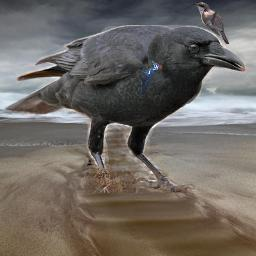Crow: (4, 25, 246, 193)
Cuckoo: (192, 1, 229, 45)
Woodpecker: (140, 58, 162, 97)
